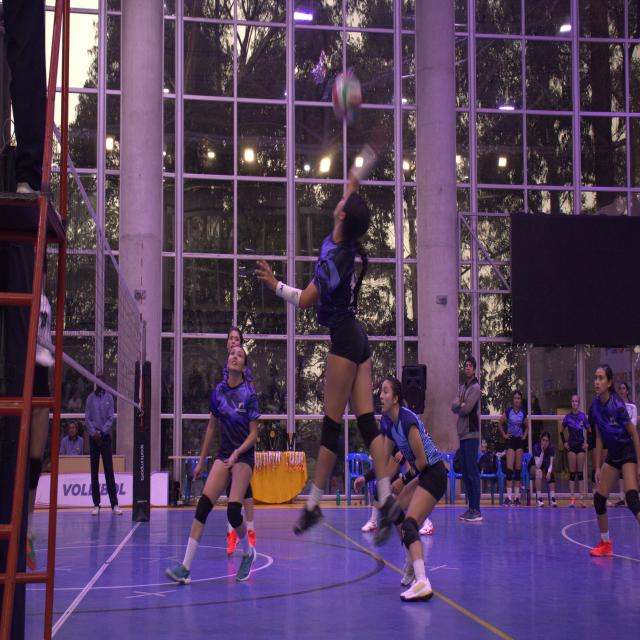volleyball: (332, 69, 362, 121)
